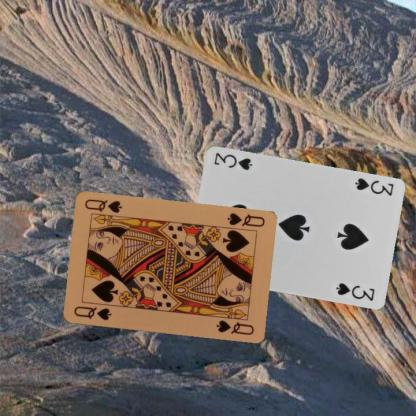3s: (352, 175, 394, 198)
Qs: (224, 210, 266, 229), (71, 304, 112, 322)
